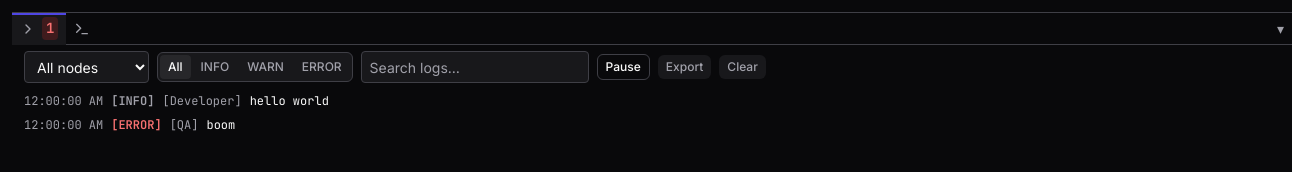
Test case: renders entries and filters by query
Check: the text "hello world" is shown, box [250,91,329,111]
Step 1. Type "boom" into the search field with placeholder "Search logs…" → coordinates (475, 67), box [361,51,589,83]
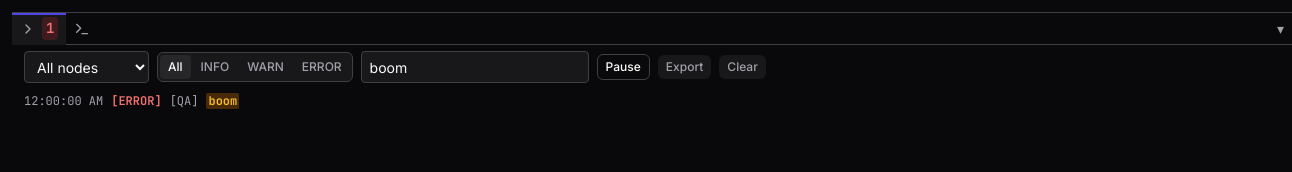
Check: the text "boom" is shown, box [206,93,239,109]
Check: the text "hello world" is gone
